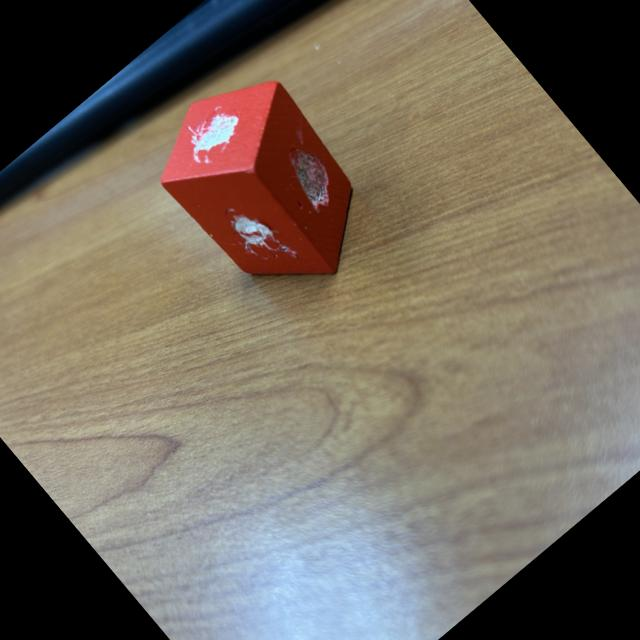broken: (132, 48, 398, 323)
